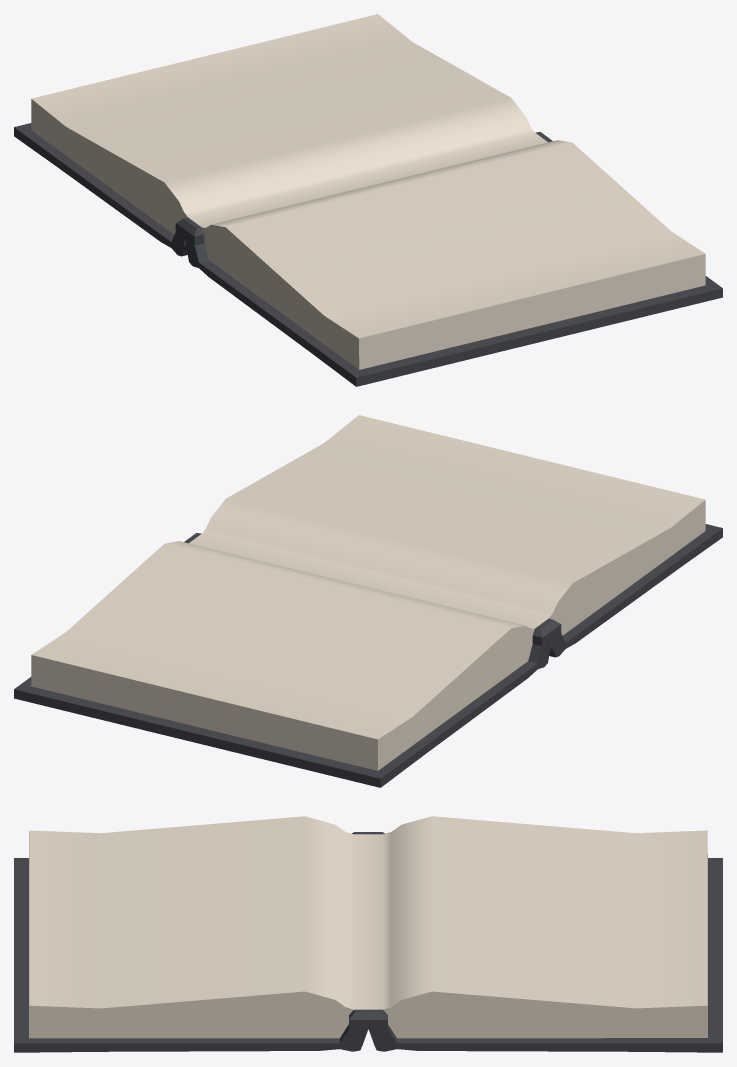
Rendered from OpenBook.fbx.
3 renders of one model, top to bottom at view 1: azimuth 30°, elevation 25°; view 2: azimuth 150°, elevation 25°; view 3: azimuth 270°, elevation 25°, orthographic. The views are drawn at different scales.
Parts seen in each view (by area): view 1: polySurface69; view 2: polySurface69; view 3: polySurface69.
Part boxes in pixels (x1=…): polySurface69: x1=14, y1=14, x2=722, y2=386; polySurface69: x1=14, y1=415, x2=722, y2=787; polySurface69: x1=14, y1=816, x2=722, y2=1052.
Size of the model in its own units: 0.5599 by 0.0793 by 0.9057.
